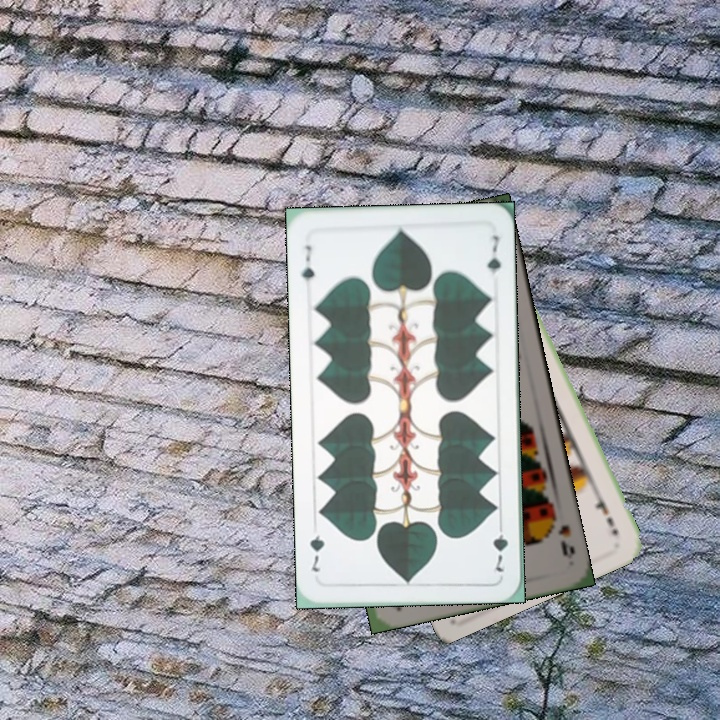E7: (588, 487, 621, 538)
G7: (489, 517, 511, 575), (298, 242, 317, 284)
S9: (544, 506, 578, 559)
